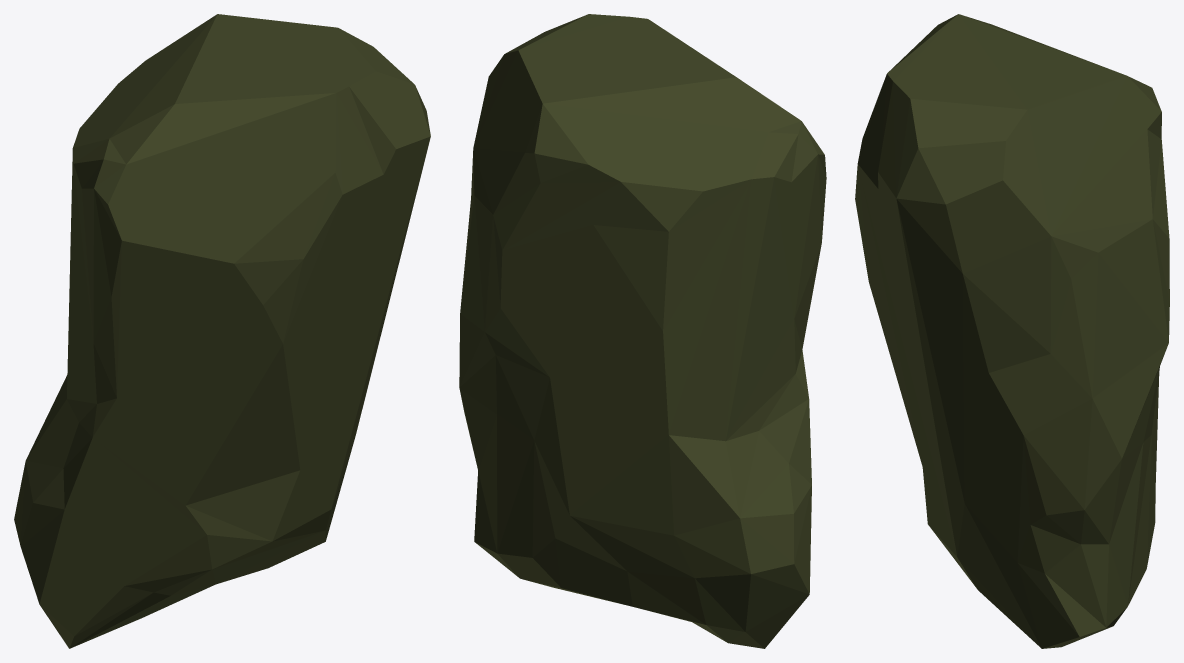
Rendered from SM_small_rock_22.fbx.
The picture shows the model from 3 angles, left to right: view 1: azimuth 30°, elevation 25°; view 2: azimuth 150°, elevation 25°; view 3: azimuth 270°, elevation 25°; orthographic projection. The views are drawn at different scales.
Parts seen in each view (by area): view 1: small_rock_22; view 2: small_rock_22; view 3: small_rock_22.
Boxes of the visible parts, <box> form: small_rock_22: <box>14,14,430,648</box>; small_rock_22: <box>459,14,826,648</box>; small_rock_22: <box>855,14,1169,648</box>.
Bounding box in the file's own units: 11.92 × 18.13 × 8.79.
